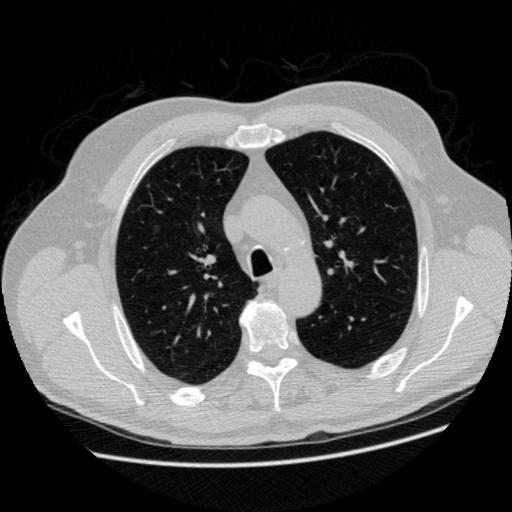nodule: (150, 222, 163, 235)
